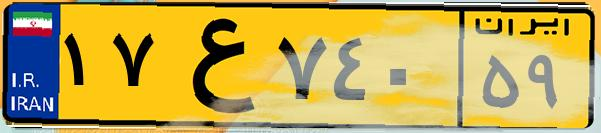0: (385, 28, 445, 110)
1: (57, 26, 110, 100)
4: (330, 28, 385, 110)
5: (475, 38, 525, 113)
7: (270, 28, 330, 110), (110, 28, 158, 98)
9: (525, 38, 570, 115)
ع: (158, 12, 270, 120)
